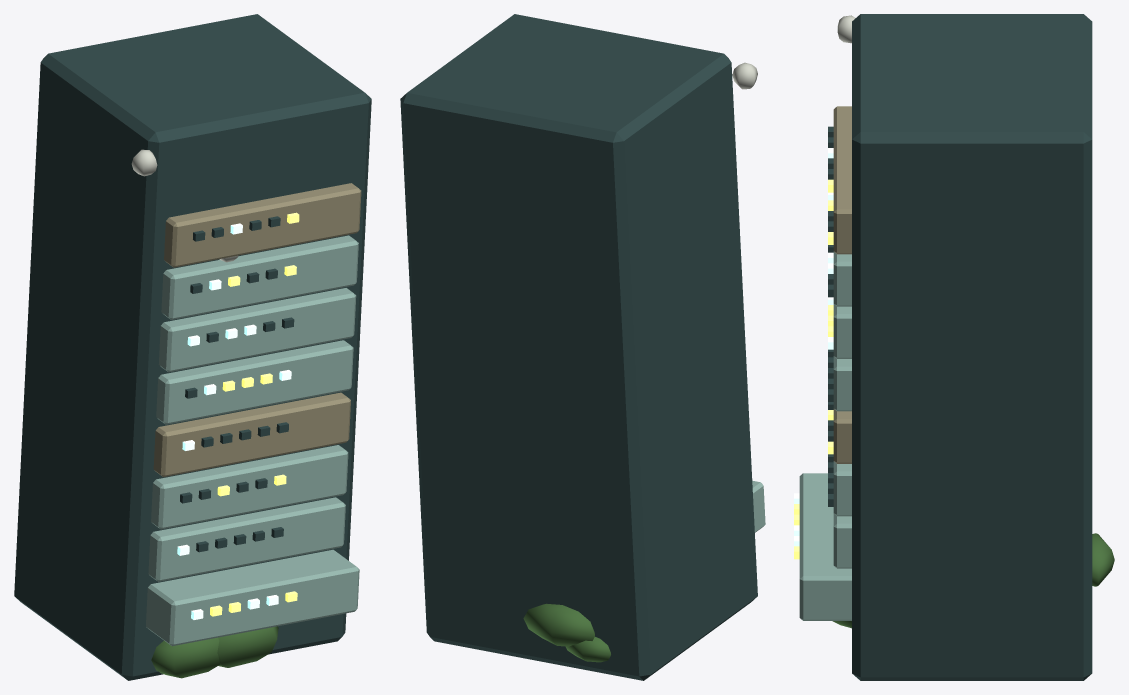
Rendered from dr_rack.glb.
The picture shows the model from 3 angles, left to right: view 1: azimuth 30°, elevation 25°; view 2: azimuth 150°, elevation 25°; view 3: azimuth 270°, elevation 25°; orthographic projection. The views are drawn at different scales.
Visible parts, largest first — view 1: dr_rack; view 2: dr_rack; view 3: dr_rack.
Boxes of the visible parts, x1,y1,x2,y2 form: dr_rack: [14, 14, 371, 680]; dr_rack: [400, 14, 765, 680]; dr_rack: [794, 14, 1114, 680].
Bounding box in the file's own units: 1.06 × 2.24 × 1.14.
